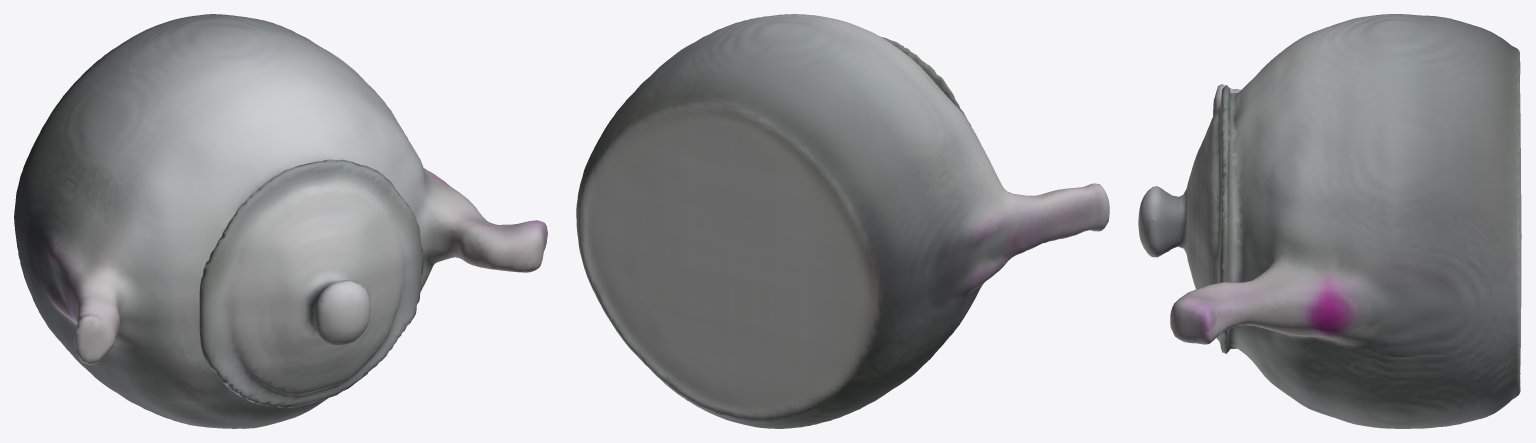
The model's file is teapot.glb.
The picture shows the model from 3 angles, left to right: view 1: azimuth 30°, elevation 25°; view 2: azimuth 150°, elevation 25°; view 3: azimuth 270°, elevation 25°; orthographic projection. The views are drawn at different scales.
Size of the model in its own units: 0.9993 by 0.7724 by 0.7018.
